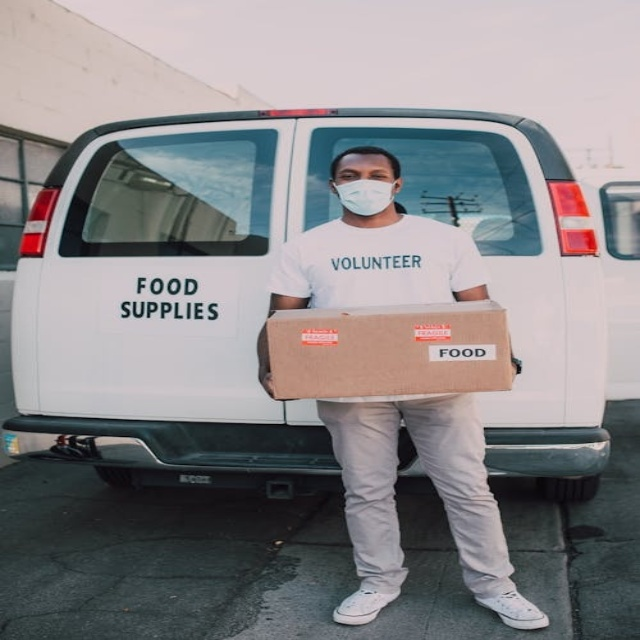Mascara: (332, 178, 396, 215)
Sin_gafas: (370, 174, 389, 179), (339, 173, 357, 178)
